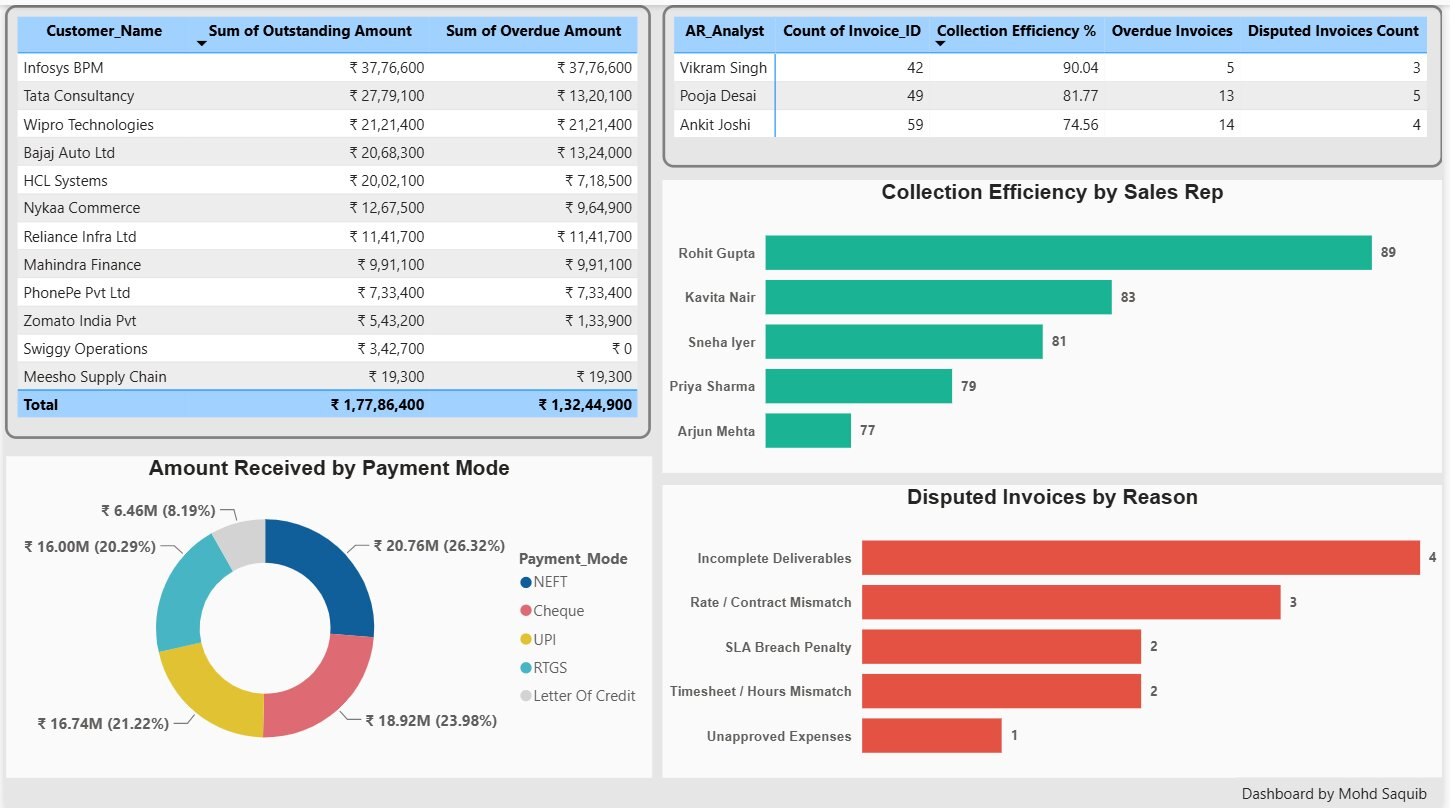

This screenshot's page, from the dashboard's own definition file:
{"tool":"powerbi","page":{"name":"Collection Performance","canvas":[1280,720],"ordinal":1},"visuals":[{"type":"tableEx","fields":{"Values":["Sheet2.Customer_Name","Sum(Sheet2.Outstanding Amount)","Sum(Sheet2.Overdue Amount)"]},"box":[0,0,575.5,386.3],"z":0},{"type":"pivotTable","fields":{"Rows":["Sheet2.AR_Analyst"],"Values":["CountNonNull(Sheet2.Invoice_ID)","Sheet2.Collection Efficiency %","Sheet2.Overdue Invoices","Sheet2.Disputed Invoices Count"]},"box":[585.1,0,694.9,144.8],"z":1000},{"type":"donutChart","title":"Amount Received by Payment Mode","fields":{"Category":["Sheet2.Payment_Mode"],"Y":["Sum(Sheet2.Amount_Received)"]},"box":[1.1,401.9,575.5,286.1],"z":2000},{"type":"clusteredBarChart","title":"Disputed Invoices by Reason","fields":{"Category":["Sheet2.Dispute_Reason"],"Y":["Sheet2.Disputed Invoices Count"]},"box":[585.1,427.1,694.9,260.6],"z":3000},{"type":"clusteredBarChart","title":"Collection Efficiency by Sales Rep","fields":{"Category":["Sheet2.Sales_Rep"],"Y":["Sheet2.Collection Efficiency %"]},"box":[585.1,155.6,694.9,260.6],"z":4000},{"type":"textbox","box":[1096.6,687.4,183.4,32.6],"z":10000}]}

Visuals, with their boxes in screenshot pixels (x1, y1, x2, y2), scaled from the page's 1280x720 canvas onto the 1450x808 screenshot:
tableEx - Sheet2.Customer_Name x Sum(Sheet2.Outstanding Amount): {"x1": 0, "y1": 0, "x2": 652, "y2": 434}
pivotTable - Sheet2.AR_Analyst x CountNonNull(Sheet2.Invoice_ID): {"x1": 663, "y1": 0, "x2": 1449, "y2": 162}
"Amount Received by Payment Mode" donutChart: {"x1": 1, "y1": 451, "x2": 653, "y2": 772}
"Disputed Invoices by Reason" clusteredBarChart: {"x1": 663, "y1": 479, "x2": 1449, "y2": 772}
"Collection Efficiency by Sales Rep" clusteredBarChart: {"x1": 663, "y1": 175, "x2": 1449, "y2": 467}
textbox: {"x1": 1242, "y1": 771, "x2": 1449, "y2": 807}
